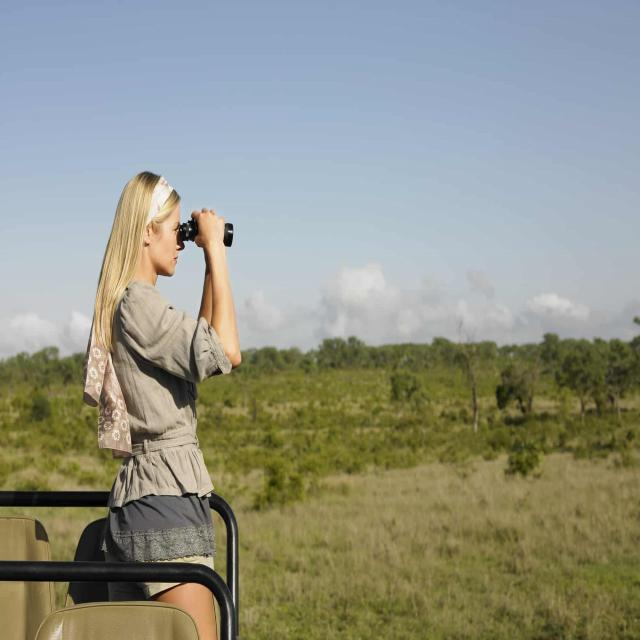Binocular: (169, 203, 244, 255)
